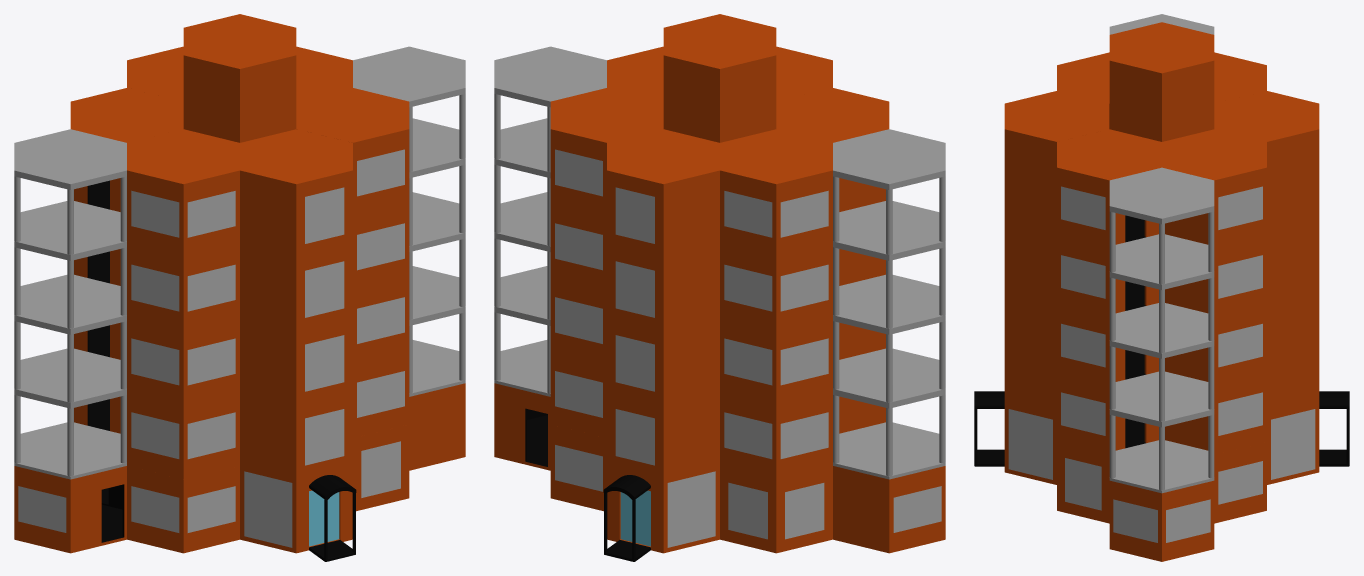
The picture shows the model from 3 angles, left to right: view 1: azimuth 30°, elevation 25°; view 2: azimuth 150°, elevation 25°; view 3: azimuth 270°, elevation 25°; orthographic projection. The views are drawn at different scales.
Visible parts, largest first — view 1: Body141, Body96, Body131, Body106, Body103, Body16, Body29, Body62, Body79, Body111, Body129, Body136 (+46 smaller); view 2: Body141, Body107, Body131, Body111, Body102, Body16, Body86, Body76, Body48, Body106, Body129, Body136 (+46 smaller); view 3: Body141, Body136, Body107, Body96, Body102, Body103, Body137, Body9, Body139, Body140, Body138, Body48 (+32 smaller).
Part boxes in pixels (x1,y1,x2,y2): Body141: [183, 14, 296, 142]; Body96: [240, 129, 352, 257]; Body131: [14, 129, 126, 479]; Body106: [127, 129, 239, 257]; Body103: [296, 88, 409, 216]; Body16: [14, 466, 126, 553]; Body29: [240, 392, 352, 479]; Body62: [240, 318, 352, 405]; Body79: [240, 244, 352, 331]; Body111: [70, 88, 183, 211]; Body129: [14, 129, 126, 189]; Body136: [353, 46, 465, 396]; Body141: [663, 14, 776, 142]; Body107: [607, 129, 719, 257]; Body131: [833, 129, 945, 479]; Body111: [720, 129, 832, 257]; Body102: [550, 88, 663, 216]; Body16: [833, 466, 945, 553]; Body86: [607, 244, 719, 331]; Body76: [607, 318, 719, 405]; Body48: [607, 392, 719, 479]; Body106: [776, 88, 889, 211]; Body129: [833, 130, 945, 189]; Body136: [494, 46, 606, 396]; Body141: [1109, 22, 1214, 141]; Body136: [1109, 168, 1214, 493]; Body107: [1214, 91, 1319, 210]; Body96: [1004, 91, 1109, 210]; Body102: [1162, 129, 1266, 248]; Body103: [1057, 129, 1161, 248]; Body137: [1109, 167, 1214, 224]; Body9: [1109, 480, 1214, 561]; Body139: [1109, 303, 1214, 358]; Body140: [1109, 371, 1214, 427]; Body138: [1109, 234, 1214, 289]; Body48: [1267, 335, 1319, 416].
Size of the model in its own units: 16 by 15 by 12.39.
